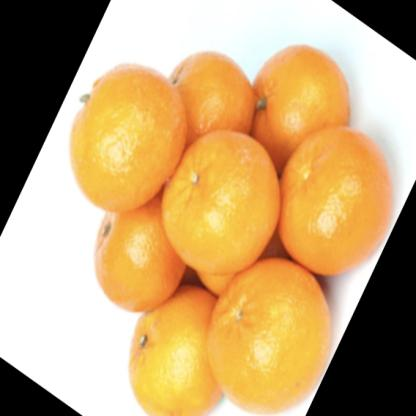fresh: (68, 45, 395, 416)
